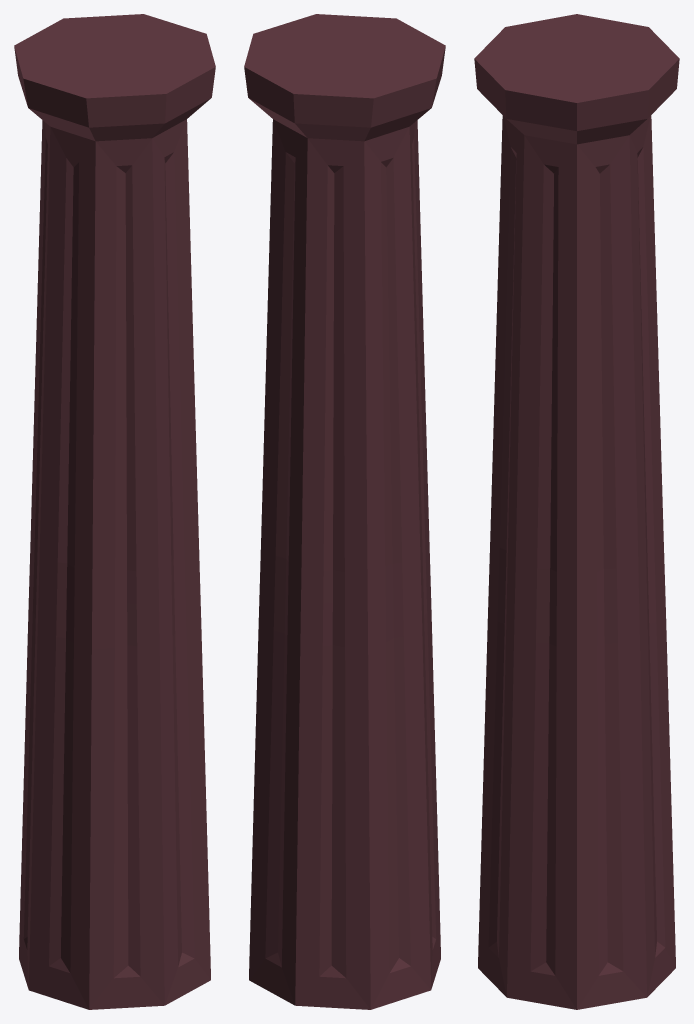
Rendered from SM_Pillar_Doric_Big_Color_Empire.fbx.
The picture shows the model from 3 angles, left to right: view 1: azimuth 30°, elevation 25°; view 2: azimuth 150°, elevation 25°; view 3: azimuth 270°, elevation 25°; orthographic projection.
Parts seen in each view (by area): view 1: SM_Pillar_Doric_Big_Color_Empire; view 2: SM_Pillar_Doric_Big_Color_Empire; view 3: SM_Pillar_Doric_Big_Color_Empire.
Part boxes in pixels (x1=…): SM_Pillar_Doric_Big_Color_Empire: x1=14, y1=14, x2=215, y2=1009; SM_Pillar_Doric_Big_Color_Empire: x1=244, y1=14, x2=445, y2=1009; SM_Pillar_Doric_Big_Color_Empire: x1=474, y1=14, x2=679, y2=1009.
Bounding box in the file's own units: 2.11 × 10.02 × 2.05.
